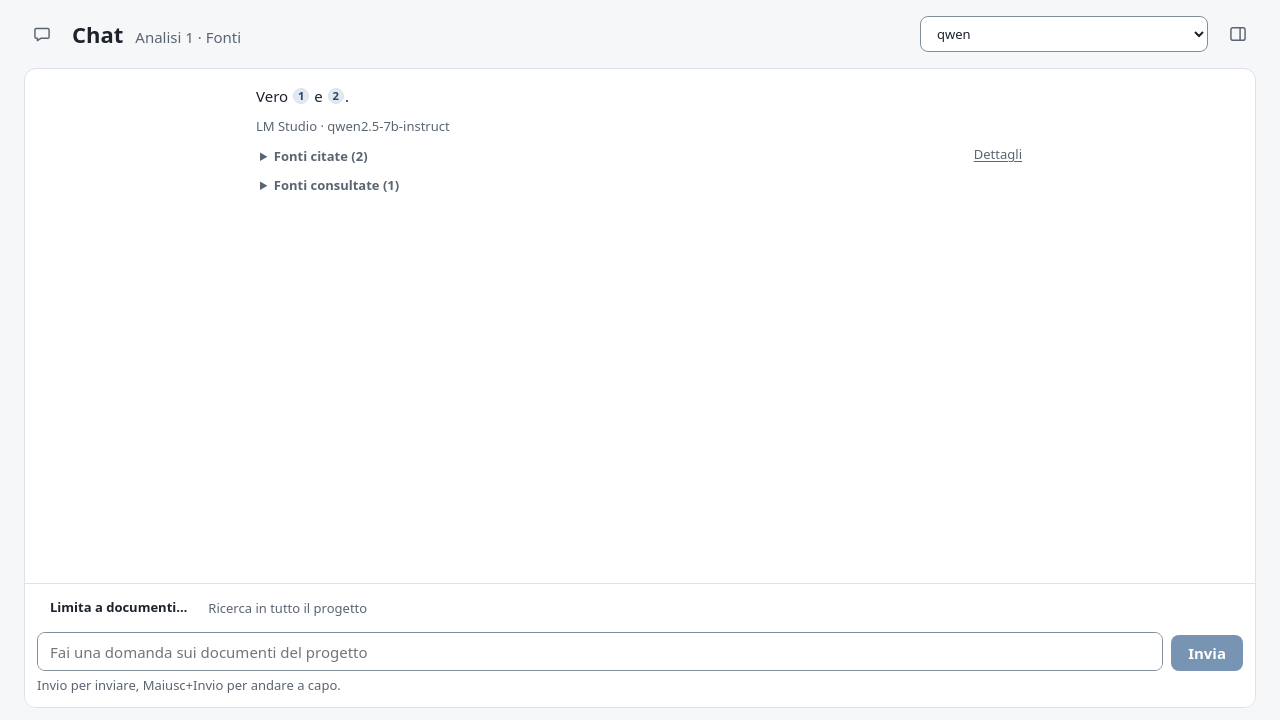
Test: sources › citation and source clicks open the cited document version at that unit
Step 1. Click the button named "Fonte 1: «Dispensa.pdf», p. 3" → {"x": 301, "y": 96}, box left=293, top=88, right=309, bottom=104
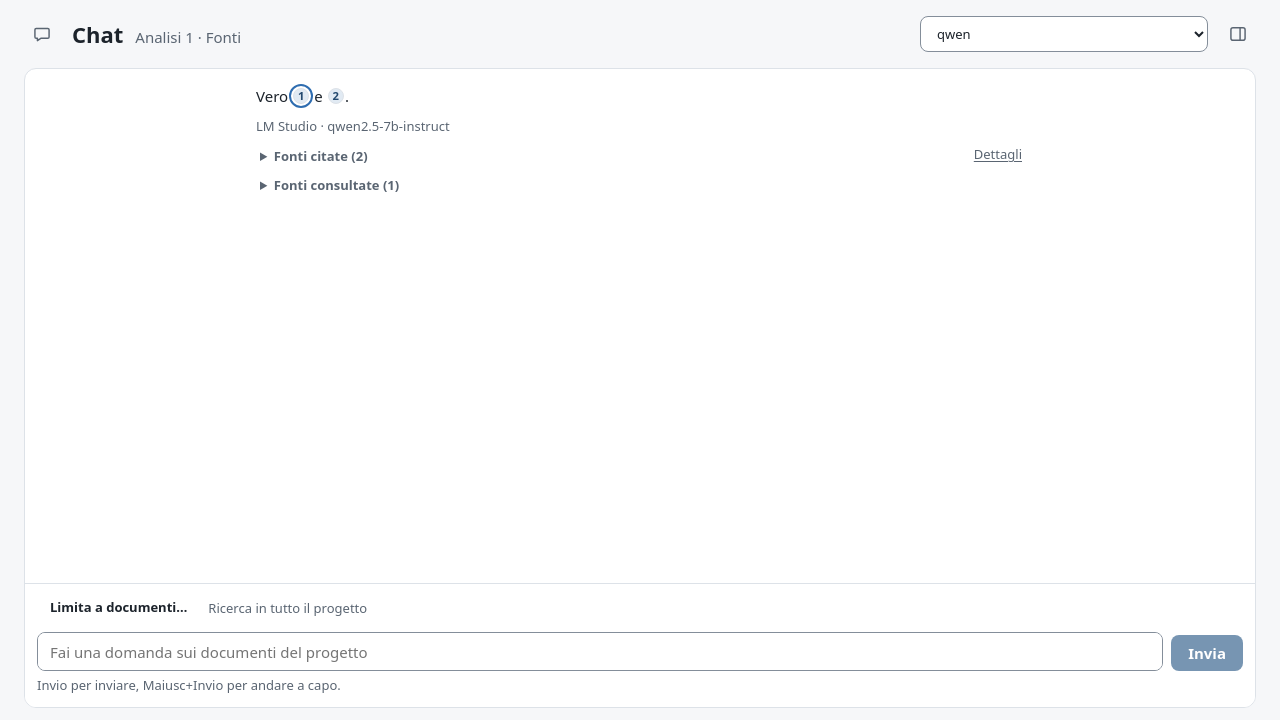
Note: An unavailable source says so instead of navigating.
Step 2. Click the button named "Fonte 2: «Appunti.md», blocco 4 (documento non più disponibile)" → {"x": 336, "y": 96}, box left=328, top=88, right=344, bottom=104
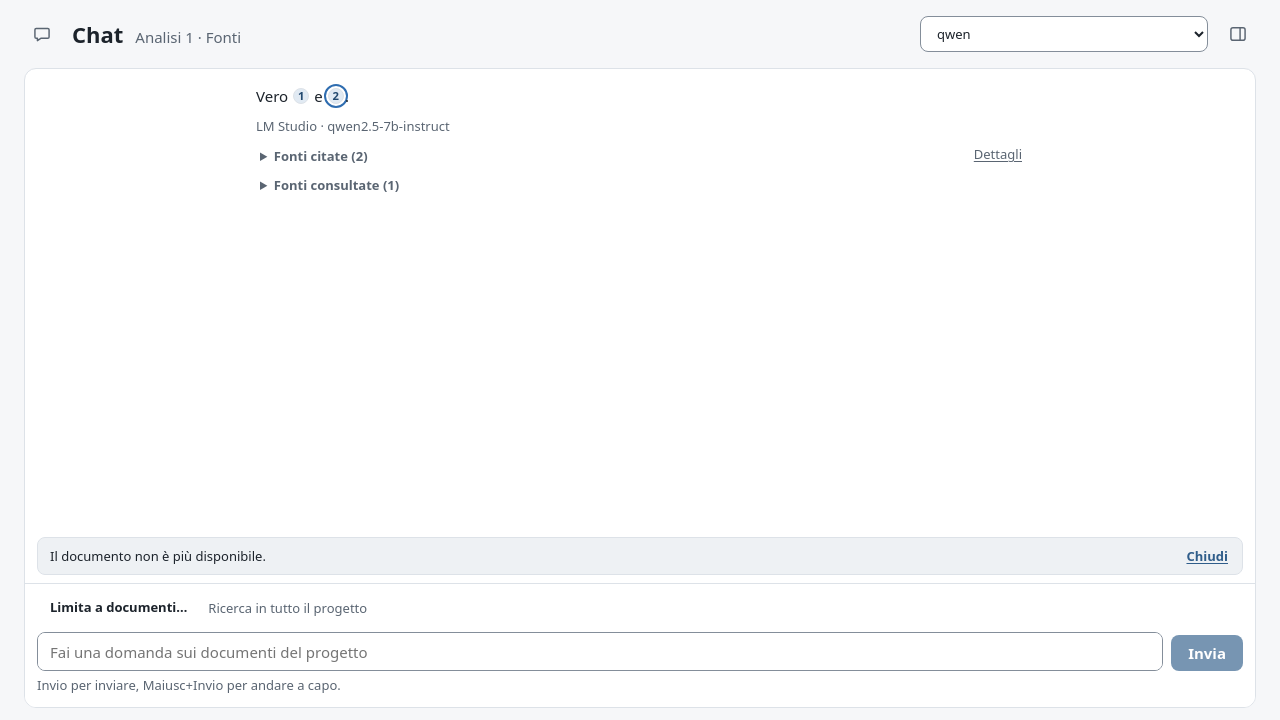
Check: the text "Il documento non è più disponibile." is shown, box left=50, top=546, right=266, bottom=566
